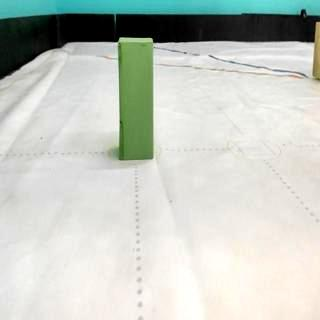greenbox: (117, 34, 155, 160)
